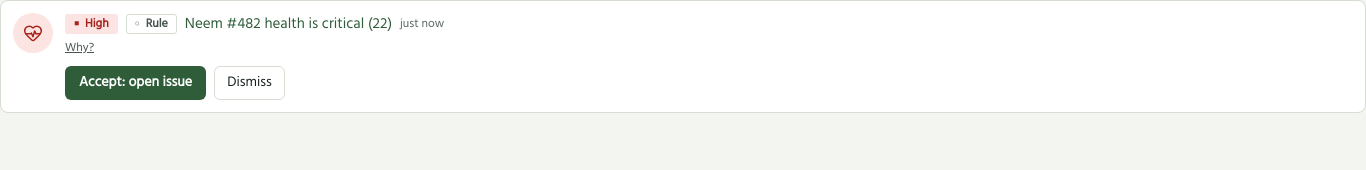
Test: RecommendationCard › explains itself and says it is not a prediction
expect the text "Rule" is shown: met, box top-left (146, 14), bottom-right (168, 34)
Click the button "Why?" at (80, 48), box top-left (65, 40), bottom-right (94, 56)
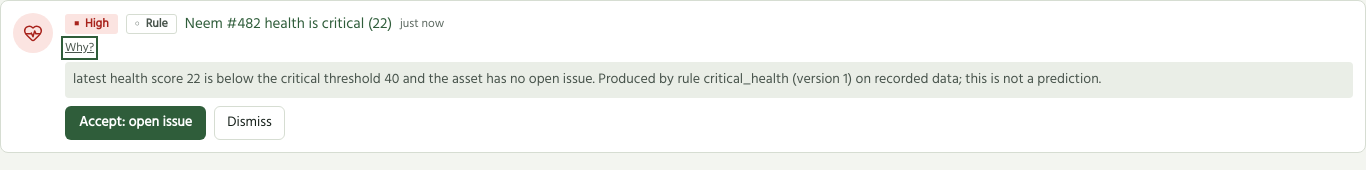
expect the text "below the critical threshold 40" is shown: met, box top-left (73, 68), bottom-right (592, 91)
expect the text "this is not a prediction" is shown: met, box top-left (598, 68), bottom-right (1101, 91)
